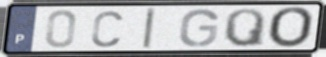0: (44, 9, 78, 50)
C: (89, 9, 125, 49)
G: (177, 8, 221, 49)
I: (141, 6, 158, 51)
O: (267, 6, 317, 50)
Q: (222, 7, 267, 48)
